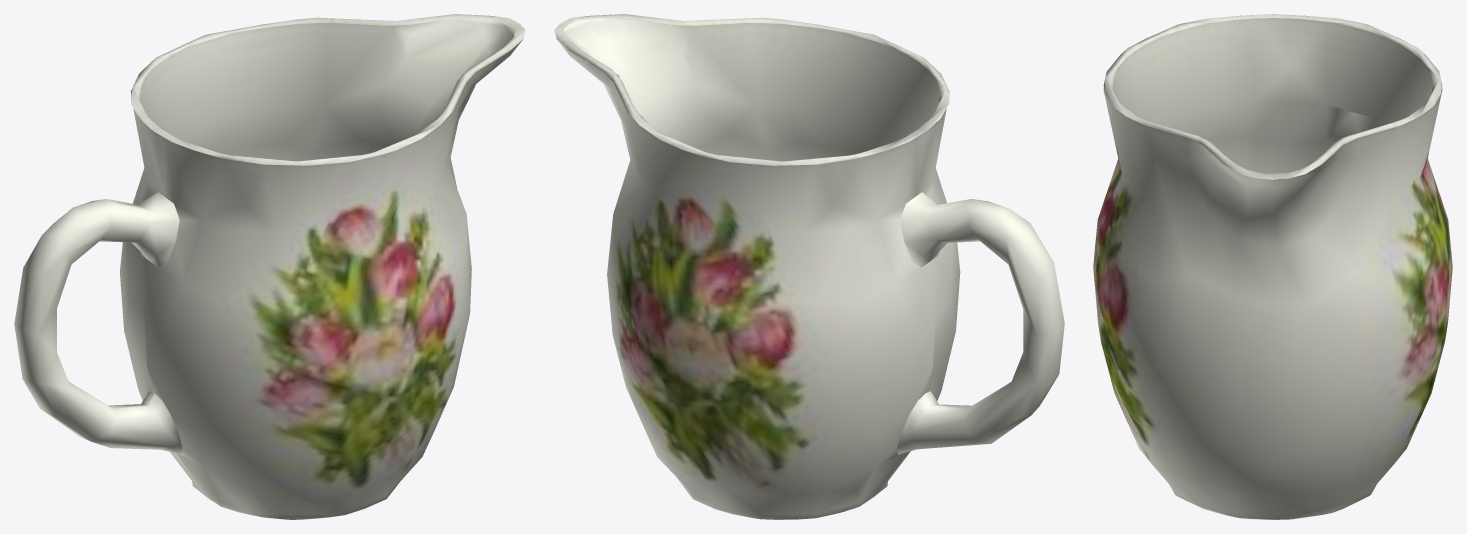
The model's file is jug.glb.
3 renders of one model, left to right at view 1: azimuth 30°, elevation 25°; view 2: azimuth 150°, elevation 25°; view 3: azimuth 270°, elevation 25°, orthographic. The views are drawn at different scales.
Parts seen in each view (by area): view 1: jug_01; view 2: jug_01; view 3: jug_01.
Boxes of the visible parts, left/top/right/bottom form: jug_01: left=14, top=14, right=525, bottom=519; jug_01: left=554, top=14, right=1064, bottom=519; jug_01: left=1093, top=14, right=1452, bottom=519.
Bounding box in the file's own units: 0.276 × 0.2107 × 0.1679.
Materials: 1 (1 with a texture image).
